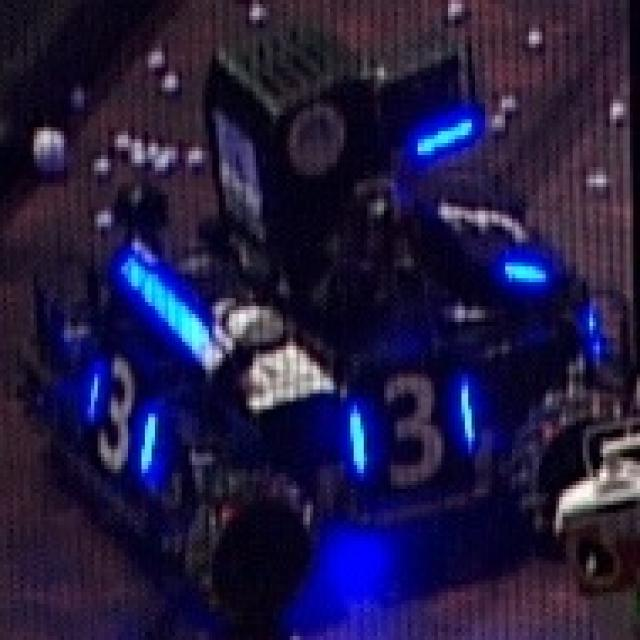B3: (344, 366, 475, 485), (84, 350, 158, 477)
